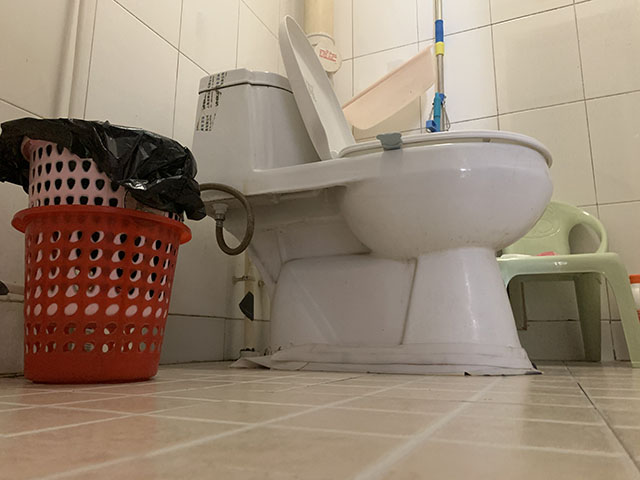closestool: (191, 14, 554, 378)
stool: (496, 199, 640, 369)
trashcan: (10, 202, 189, 386)
